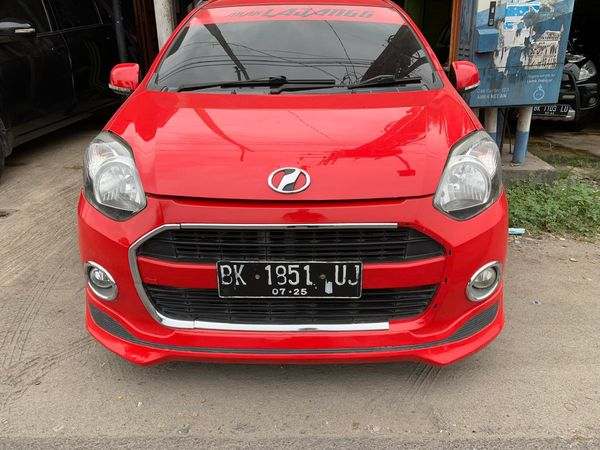plate: (210, 258, 368, 301)
